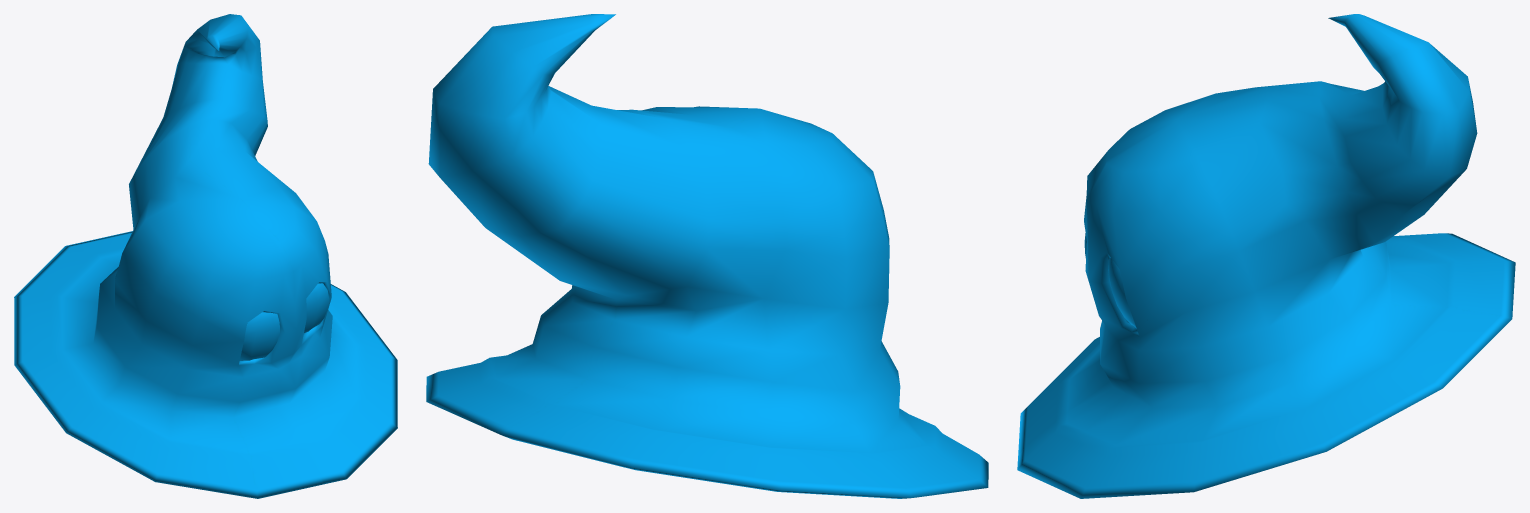
File: water_guy Demo.fbx
3 renders of one model, left to right at view 1: azimuth 30°, elevation 25°; view 2: azimuth 150°, elevation 25°; view 3: azimuth 270°, elevation 25°, orthographic. The views are drawn at different scales.
Parts seen in each view (by area): view 1: node_id4, node_id6, node_id8; view 2: node_id4; view 3: node_id4, node_id8.
Part boxes in pixels (x1,y1,x2,y2): node_id4: [14, 14, 397, 498]; node_id6: [239, 312, 279, 360]; node_id8: [304, 283, 329, 332]; node_id4: [426, 14, 988, 498]; node_id4: [1017, 14, 1515, 498]; node_id8: [1108, 258, 1136, 328].
Bounding box in the file's own units: 0.4979 × 0.5071 × 0.5038.
3 materials, 3 textured.
